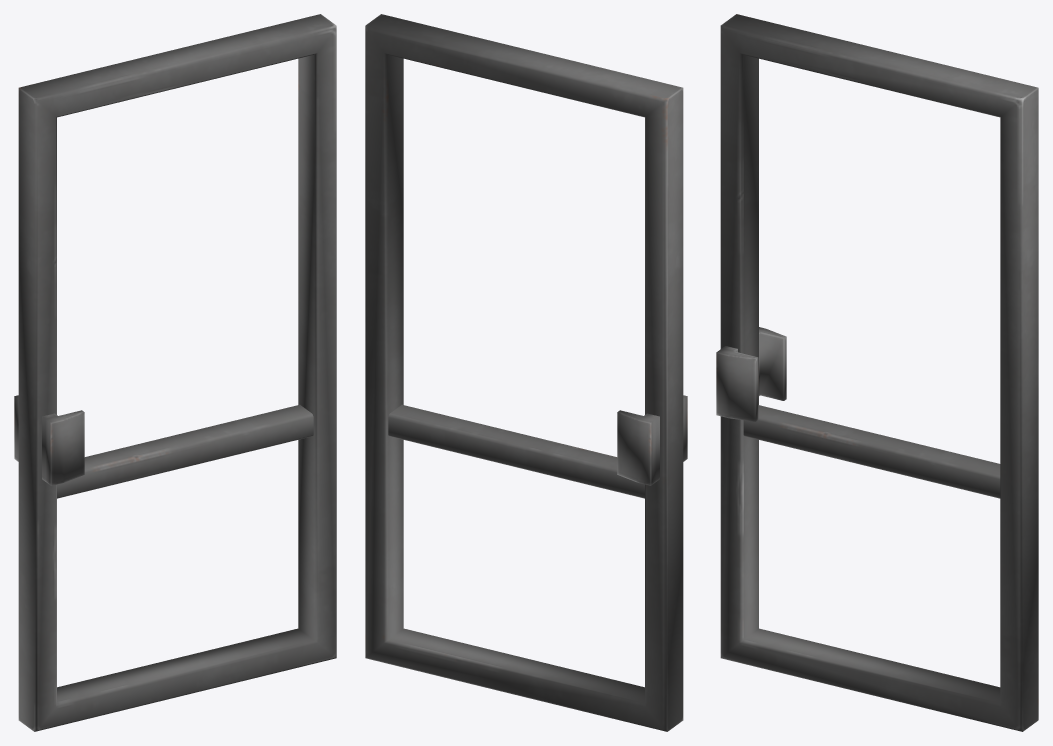
File: SM_Building_Door_01.glb
3 views of the same model, side by side, from view 1: azimuth 30°, elevation 25°; view 2: azimuth 150°, elevation 25°; view 3: azimuth 330°, elevation 25° (orthographic).
Visible parts, largest first — view 1: SM_Building_Door_01; view 2: SM_Building_Door_01; view 3: SM_Building_Door_01.
Boxes of the visible parts, x1,y1,x2,y2 form: SM_Building_Door_01: (14, 14, 336, 731); SM_Building_Door_01: (365, 14, 687, 731); SM_Building_Door_01: (716, 14, 1038, 731).
Bounding box in the file's own units: 1 × 2 × 0.2117.
1 material, 1 textured.
